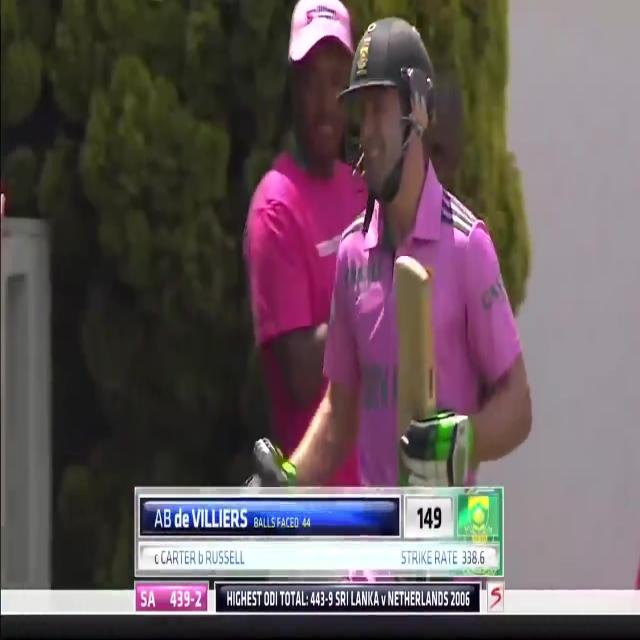Ball: (259, 9, 539, 483)
